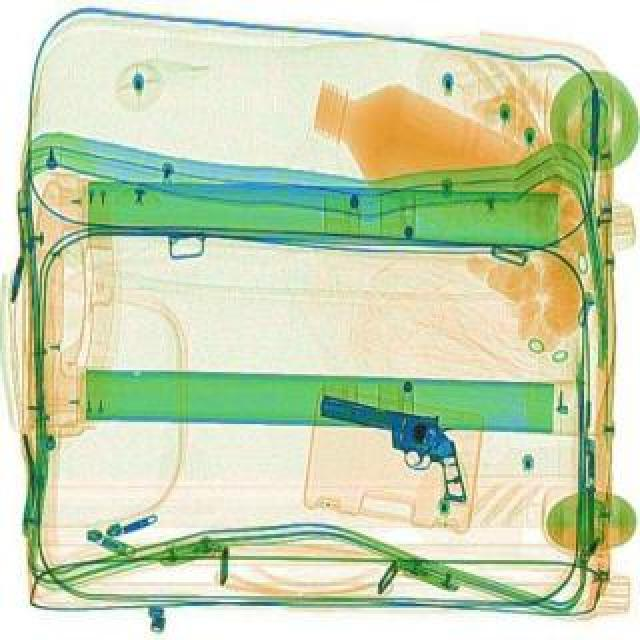gun: (304, 390, 486, 504)
